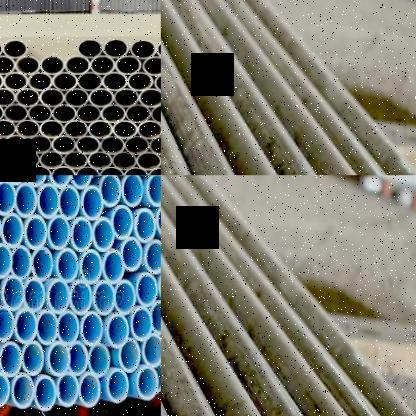pipe: (13, 309, 38, 344), (47, 341, 72, 376), (24, 214, 48, 250), (2, 275, 26, 311), (106, 368, 130, 404), (11, 374, 35, 410), (14, 183, 38, 218), (92, 216, 115, 252), (57, 310, 80, 346), (93, 281, 116, 316), (22, 341, 45, 376), (88, 343, 111, 378), (57, 372, 80, 407), (81, 185, 103, 221), (134, 208, 156, 244), (121, 236, 143, 272), (10, 245, 32, 281), (114, 279, 136, 315), (36, 310, 58, 346), (0, 341, 22, 377), (34, 375, 56, 411), (106, 314, 129, 348), (118, 338, 141, 372), (136, 366, 159, 400), (112, 205, 134, 240), (2, 213, 24, 248), (48, 215, 70, 250), (56, 248, 78, 283), (102, 249, 124, 284), (80, 249, 102, 284), (136, 272, 158, 307), (48, 279, 70, 314), (70, 280, 92, 315), (131, 307, 153, 342), (79, 373, 101, 408), (82, 311, 103, 347), (71, 218, 93, 252), (38, 184, 59, 219), (68, 341, 89, 376), (59, 186, 80, 220), (25, 278, 46, 312), (99, 175, 121, 207), (120, 175, 142, 207), (32, 247, 52, 281), (141, 333, 161, 367), (115, 54, 142, 76), (144, 240, 161, 274), (102, 38, 130, 58), (90, 54, 115, 76), (124, 135, 150, 156), (100, 103, 126, 124), (87, 150, 113, 171), (76, 103, 102, 124), (52, 71, 78, 92), (76, 71, 102, 92), (102, 71, 128, 92), (126, 103, 151, 124), (136, 150, 161, 171), (0, 179, 15, 214), (40, 55, 66, 75), (74, 135, 100, 155), (130, 39, 156, 59), (40, 88, 66, 108), (64, 55, 90, 75), (62, 150, 88, 170), (128, 72, 154, 92), (112, 151, 138, 171), (77, 38, 103, 58), (0, 305, 14, 342), (137, 119, 161, 140), (100, 135, 124, 156), (52, 103, 76, 124), (3, 38, 27, 59), (28, 71, 52, 92), (15, 119, 40, 139), (89, 88, 114, 108), (114, 88, 139, 108), (64, 88, 89, 108), (15, 56, 40, 76), (4, 134, 29, 154), (4, 102, 29, 122), (38, 150, 63, 170), (15, 150, 40, 170), (3, 72, 28, 92), (112, 120, 138, 139), (28, 103, 52, 123), (28, 134, 52, 154), (52, 134, 76, 154), (146, 175, 161, 207), (88, 120, 113, 139), (64, 120, 89, 139), (15, 88, 40, 107), (38, 120, 64, 138), (138, 88, 161, 108), (0, 243, 12, 279), (141, 55, 161, 76), (0, 371, 10, 407), (150, 300, 160, 335), (0, 148, 16, 168), (70, 175, 92, 189), (0, 118, 16, 137), (49, 175, 72, 188), (24, 175, 48, 187), (0, 87, 15, 106), (0, 54, 14, 74), (26, 165, 52, 175), (51, 165, 76, 175), (3, 165, 28, 175), (148, 135, 160, 155), (149, 104, 161, 124), (98, 166, 124, 175), (74, 166, 100, 175), (124, 166, 148, 175), (3, 176, 26, 184), (156, 203, 161, 238), (154, 72, 161, 92), (147, 167, 161, 175), (0, 134, 4, 153), (0, 70, 3, 90), (0, 102, 3, 122), (0, 164, 4, 176), (0, 38, 2, 58)
